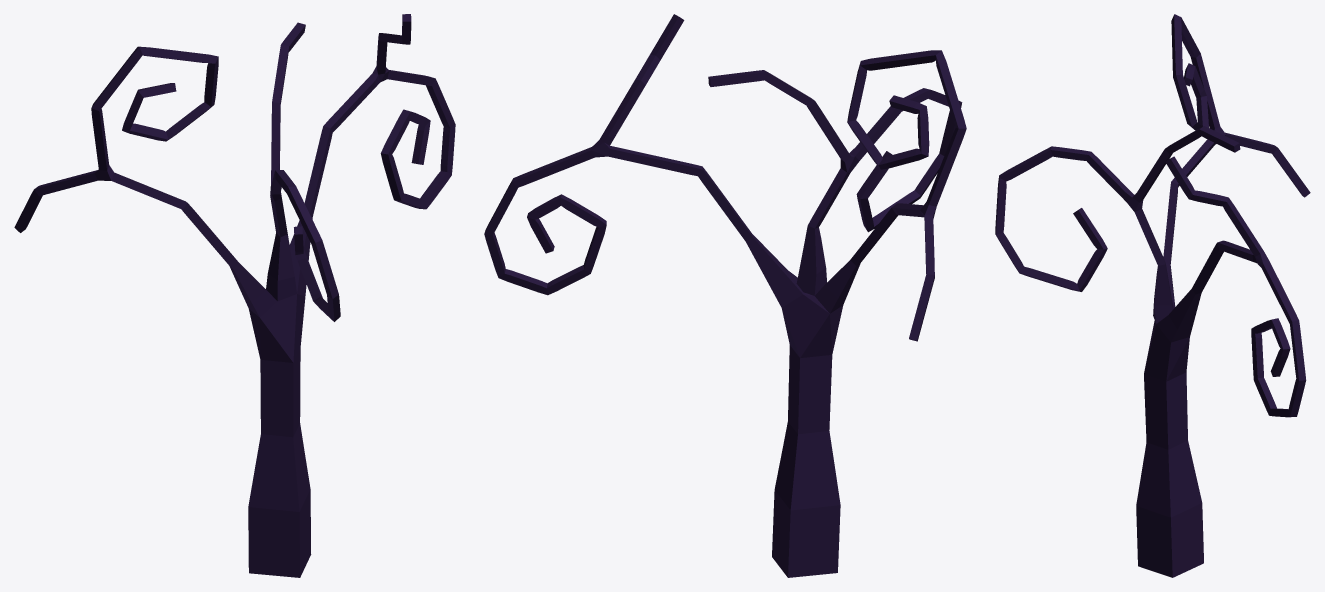
Rendered from Arbol_4.fbx.
3 views of the same model, side by side, from view 1: azimuth 30°, elevation 25°; view 2: azimuth 150°, elevation 25°; view 3: azimuth 270°, elevation 25° (orthographic). The views are drawn at different scales.
Parts seen in each view (by area): view 1: Arbol_Marchito_P; view 2: Arbol_Marchito_P; view 3: Arbol_Marchito_P.
Boxes of the visible parts, x1,y1,x2,y2 form: Arbol_Marchito_P: (14,14,455,577); Arbol_Marchito_P: (484,14,966,577); Arbol_Marchito_P: (995,14,1310,577).
Bounding box in the file's own units: 1173 × 1413 × 823.
